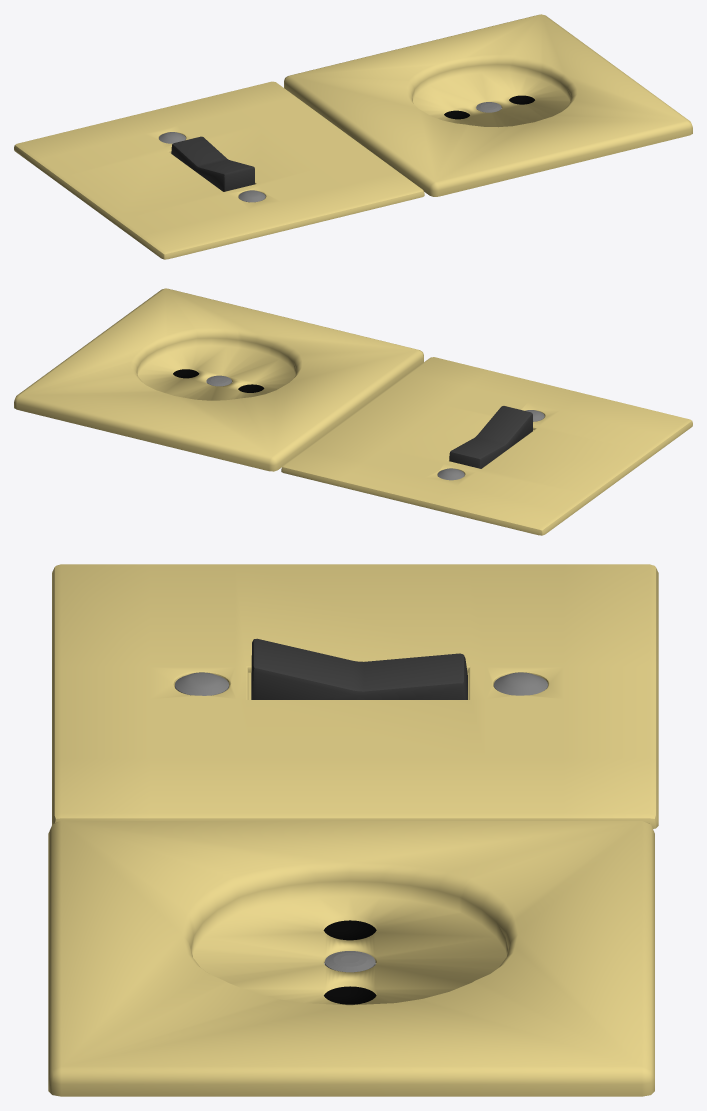
Rendered from room_props.fbx.
The picture shows the model from 3 angles, top to bottom: view 1: azimuth 30°, elevation 25°; view 2: azimuth 150°, elevation 25°; view 3: azimuth 270°, elevation 25°; orthographic projection. The views are drawn at different scales.
Visible parts, largest first — view 1: Cylinder.002, Plane.003, Plane.001; view 2: Cylinder.002, Plane.003, Plane.001; view 3: Cylinder.002, Plane.003, Plane.001.
Part boxes in pixels (x1=…): Cylinder.002: x1=284, y1=14, x2=692, y2=196; Plane.003: x1=14, y1=81, x2=424, y2=259; Plane.001: x1=171, y1=136, x2=254, y2=191; Cylinder.002: x1=14, y1=288, x2=423, y2=471; Plane.003: x1=281, y1=357, x2=692, y2=535; Plane.001: x1=449, y1=406, x2=532, y2=468; Cylinder.002: x1=48, y1=821, x2=654, y2=1096; Plane.003: x1=52, y1=564, x2=658, y2=828; Plane.001: x1=251, y1=638, x2=467, y2=699.
Size of the model in its own units: 404 by 19.07 by 201.
